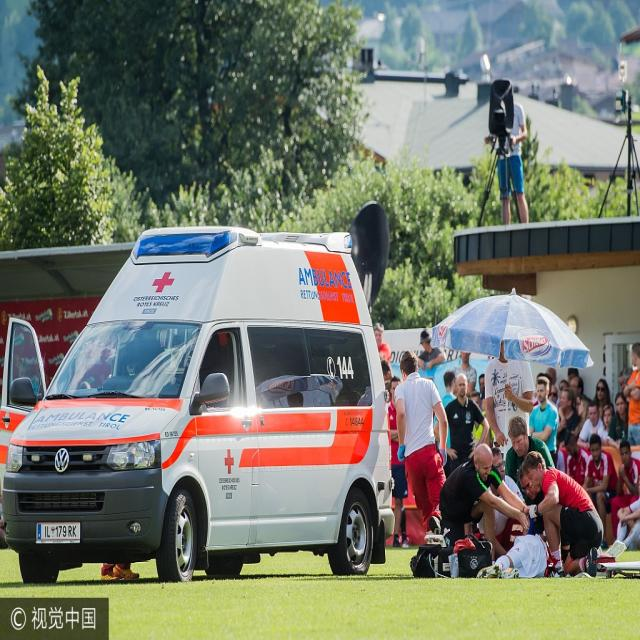10-: (352, 79, 640, 577)
down: (470, 531, 552, 581)
